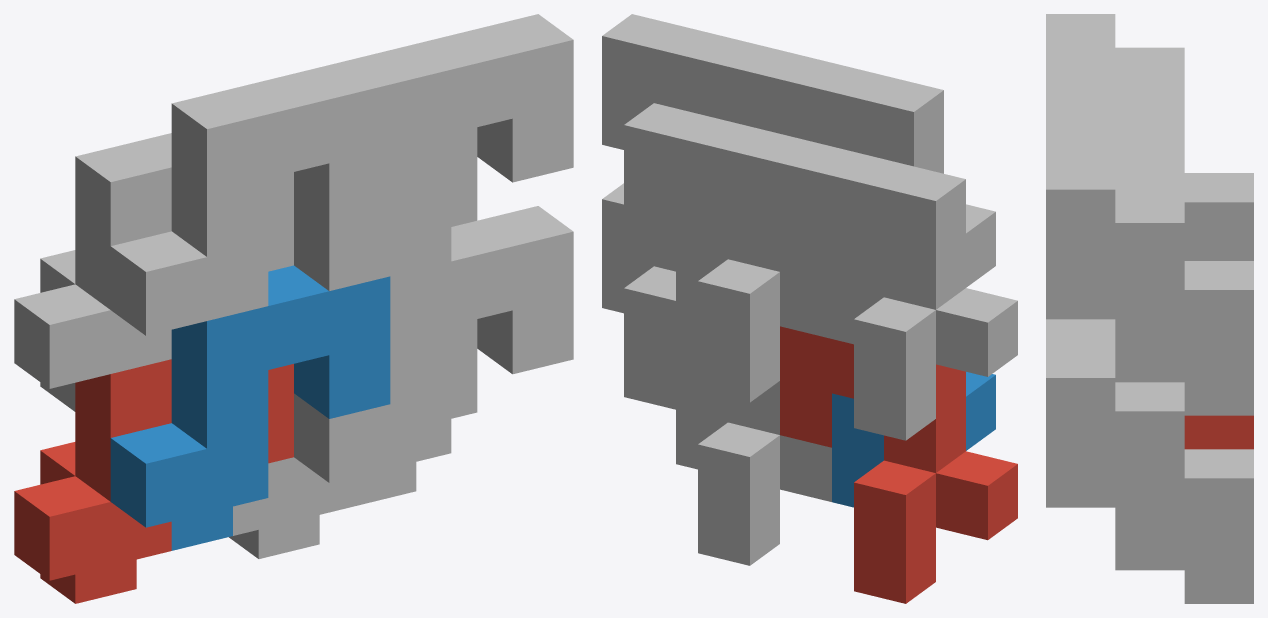
The model's file is tiling.obj.
3 views of the same model, side by side, from view 1: azimuth 30°, elevation 25°; view 2: azimuth 150°, elevation 25°; view 3: azimuth 270°, elevation 25° (orthographic). The views are drawn at different scales.
Visible parts, largest first — view 1: copy_1_domain_4, copy_1_domain_2, copy_1_domain_8, copy_1_domain_6, copy_1_domain_3, copy_1_domain_1, copy_1_domain_5, copy_1_domain_7; view 2: copy_1_domain_3, copy_1_domain_7, copy_1_domain_1, copy_1_domain_5, copy_1_domain_4, copy_1_domain_8, copy_1_domain_6, copy_1_domain_2; view 3: copy_1_domain_7, copy_1_domain_5, copy_1_domain_8, copy_1_domain_6, copy_1_domain_3, copy_1_domain_4, copy_1_domain_1.
Boxes of the visible parts, x1,y1,x2,y2 form: copy_1_domain_4: [110, 59, 390, 335]; copy_1_domain_2: [110, 265, 390, 550]; copy_1_domain_8: [294, 14, 573, 291]; copy_1_domain_6: [294, 206, 573, 505]; copy_1_domain_3: [14, 133, 293, 411]; copy_1_domain_1: [14, 359, 293, 603]; copy_1_domain_5: [229, 319, 477, 558]; copy_1_domain_7: [451, 127, 477, 226]; copy_1_domain_3: [780, 141, 1017, 440]; copy_1_domain_7: [624, 103, 831, 402]; copy_1_domain_1: [780, 326, 1017, 603]; copy_1_domain_5: [624, 266, 831, 565]; copy_1_domain_4: [758, 52, 995, 344]; copy_1_domain_8: [602, 14, 787, 306]; copy_1_domain_6: [602, 183, 727, 469]; copy_1_domain_2: [832, 372, 995, 507]; copy_1_domain_7: [1115, 135, 1253, 415]; copy_1_domain_5: [1115, 382, 1253, 603]; copy_1_domain_8: [1046, 101, 1184, 382]; copy_1_domain_6: [1046, 319, 1184, 570]; copy_1_domain_3: [1115, 47, 1253, 260]; copy_1_domain_4: [1046, 14, 1115, 101]; copy_1_domain_1: [1184, 415, 1253, 449].
Size of the model in its own units: 8 by 8 by 3.
